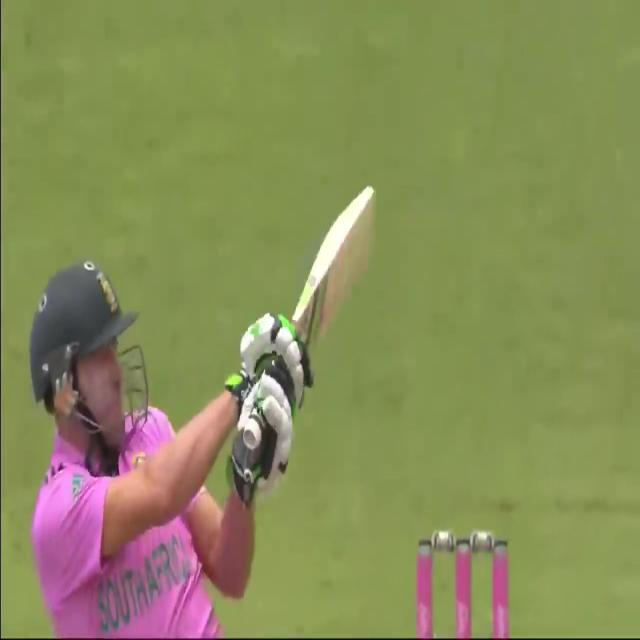Ball: (16, 249, 304, 636)
